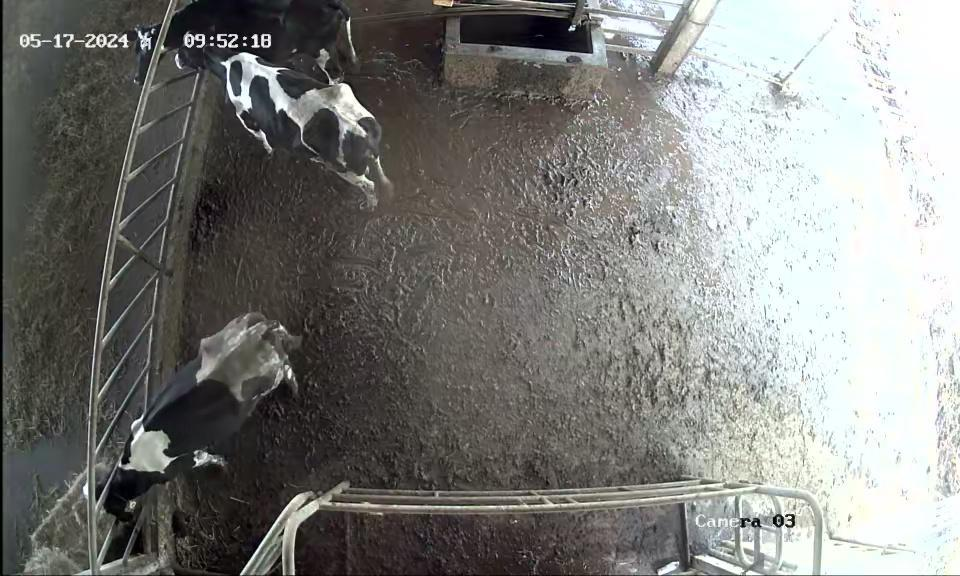eat: (59, 451, 165, 538), (115, 8, 221, 91)
stand: (173, 28, 401, 219)
